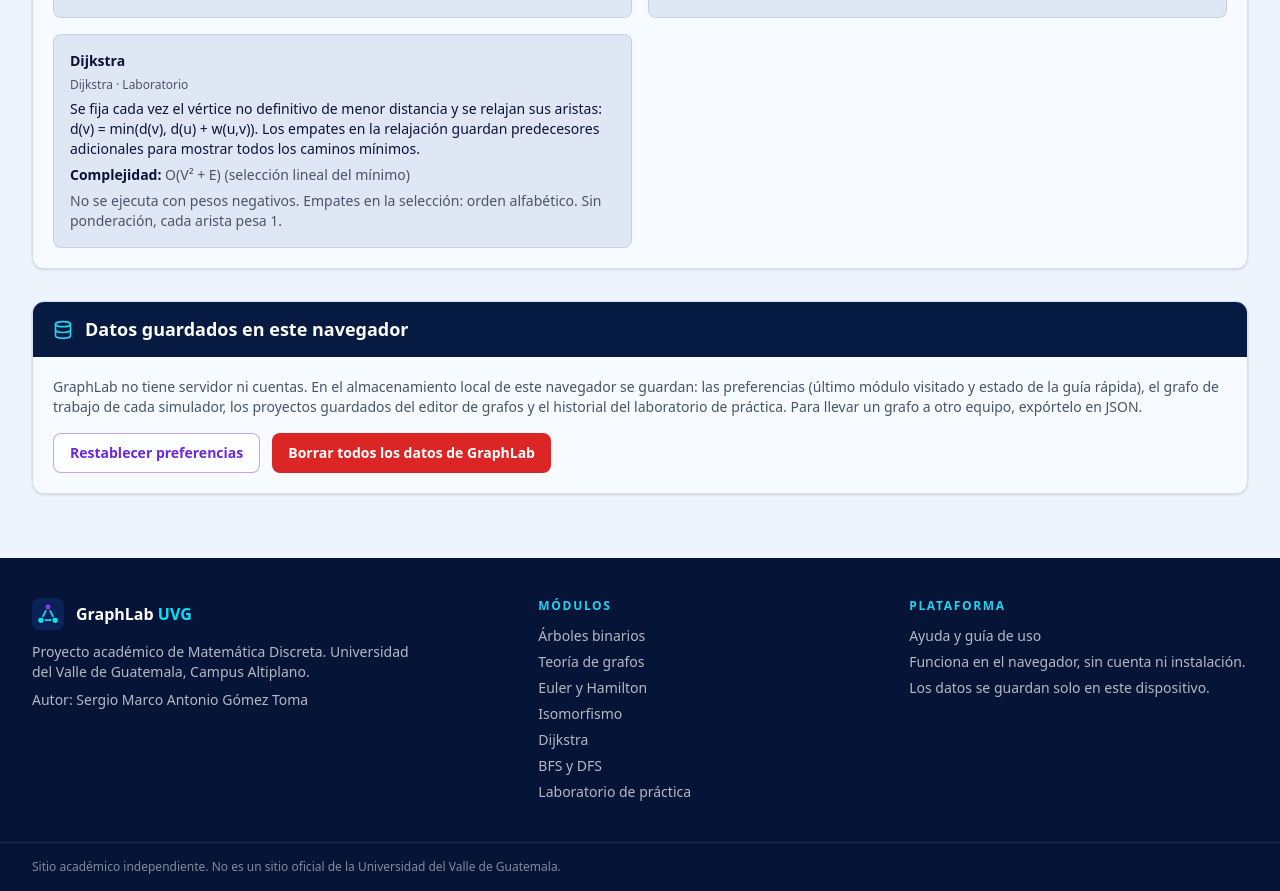
Test: confirmación de acciones destructivas (página de ayuda) › se cancela con Escape sin borrar datos y devuelve el foco al botón
(page scrolled)
Click the button "Restablecer preferencias".
click(157, 453)  # box [53, 433, 260, 473]
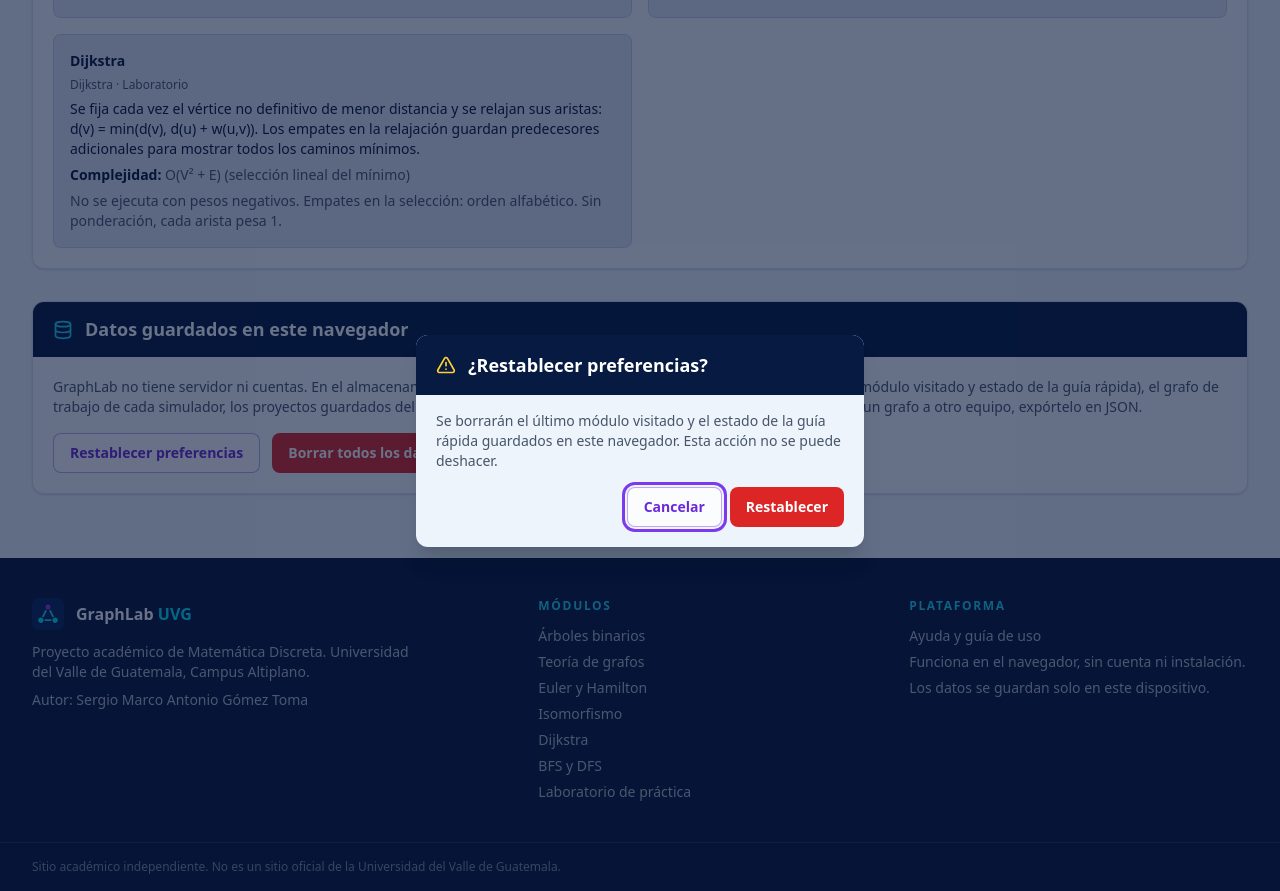
Press Escape
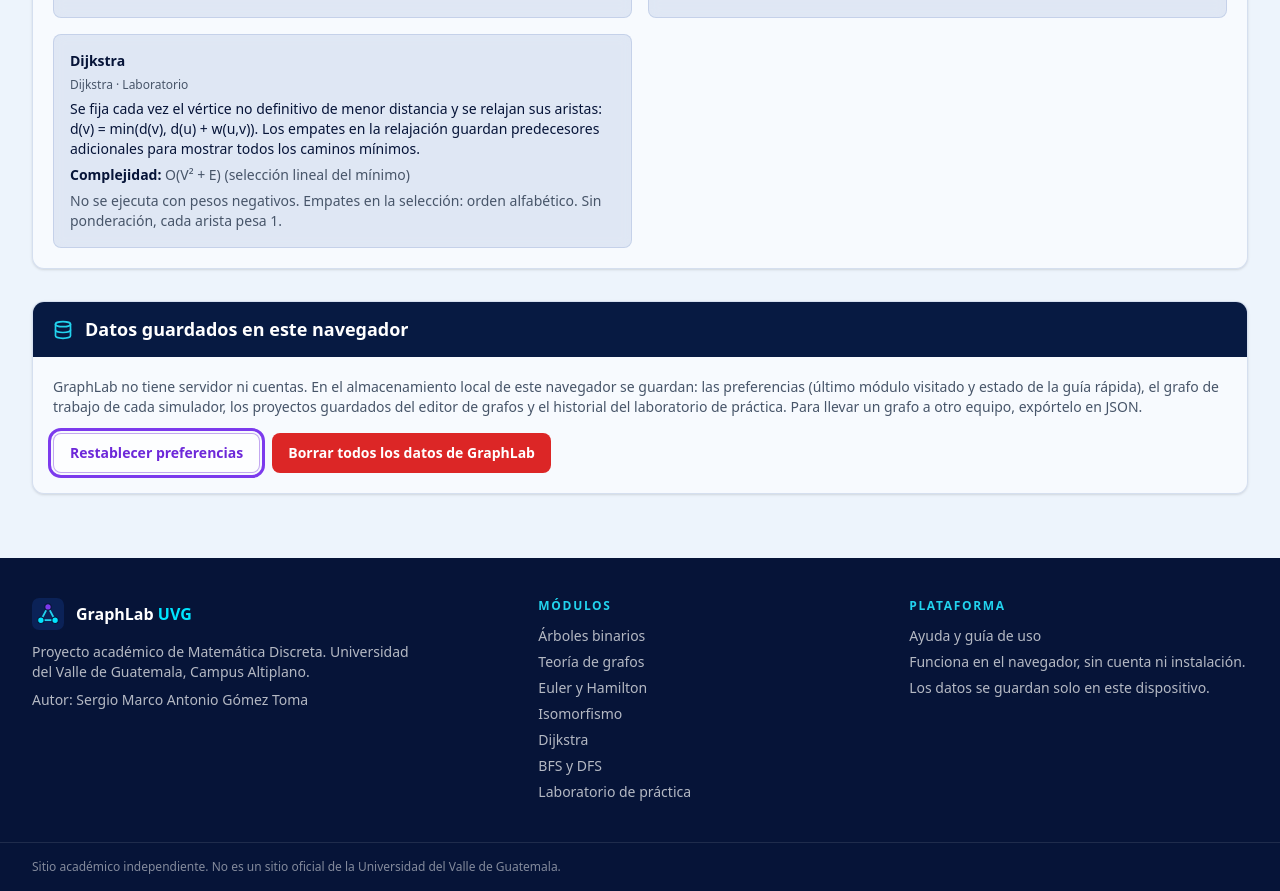
Expected: the dialog is gone
